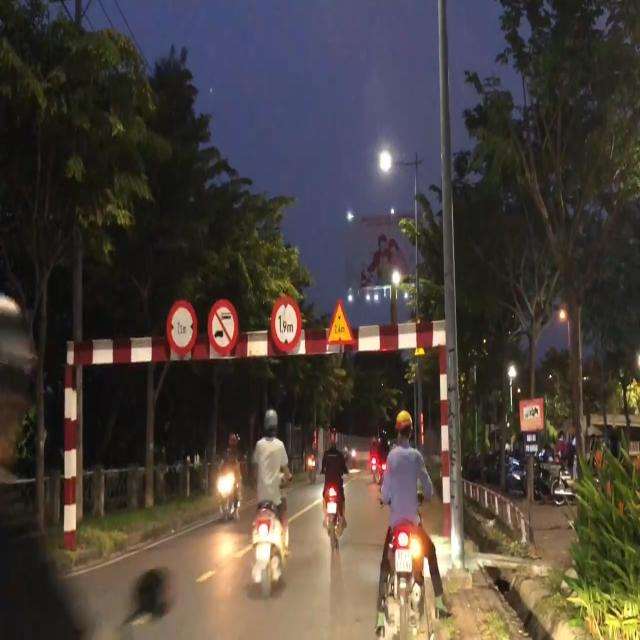Bien bao cam xe oto khach va xe oto tai: (205, 296, 243, 361)
Bien bao chieu cao tinh khong thuc te: (324, 293, 360, 353)
Bien bao han che chieu cao: (268, 290, 304, 360)
